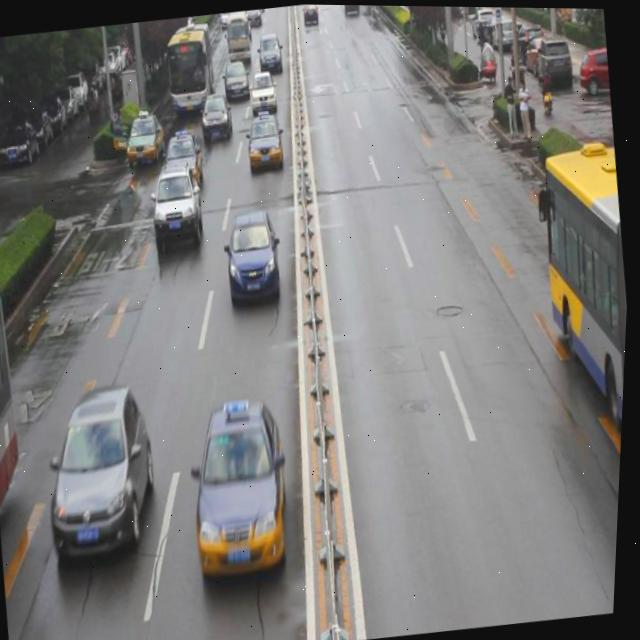car: (41, 386, 170, 562), (187, 398, 299, 577), (222, 208, 287, 300), (148, 163, 209, 253), (159, 129, 210, 191), (124, 106, 170, 167), (244, 111, 288, 170), (197, 87, 237, 142), (245, 67, 281, 118), (221, 57, 251, 102)
van: (520, 129, 636, 490), (0, 271, 45, 579), (161, 17, 220, 113)
